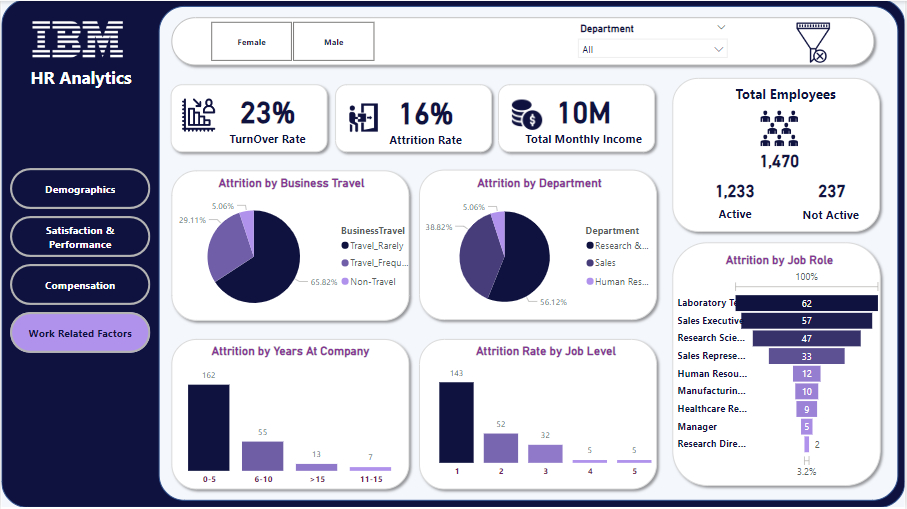

The dashboard page shown, as its layout file describes it:
{"tool":"powerbi","page":{"name":"Work Related Factors","canvas":[1280,720],"ordinal":3},"visuals":[{"type":"textbox","box":[36.9,86.5,165.8,42.5],"z":0},{"type":"card","fields":{"Values":["Dax Measures.# Attrited employees"]},"box":[1134.1,247.4,87.2,42.9],"z":0,"group":"g1"},{"type":"image","box":[1109.1,25.6,82,66.6],"z":1000},{"type":"card","fields":{"Values":["Dax Measures.# Current employees"]},"box":[1002.5,240.2,75.8,57.2],"z":1000,"group":"g1"},{"type":"group","id":"g1","title":"Group 1","box":[1002.5,113.5,277.5,212.5],"z":2000},{"type":"card","fields":{"Values":["Dax Measures.Total Employees"]},"box":[1059.7,200.2,88.7,52.9],"z":2000,"group":"g1"},{"type":"textbox","box":[1036,113.5,210.2,58.6],"z":3000,"group":"g1"},{"type":"pageNavigator","box":[12.8,226.8,199.8,284.9],"z":3000},{"type":"card","fields":{"Values":["Dax Measures.TurnOver Rate"]},"box":[296.1,120.1,163,87.2],"z":4000},{"type":"image","box":[1062.6,148.7,82.9,62.9],"z":4000,"group":"g1"},{"type":"card","fields":{"Values":["Dax Measures.Attrtion Rate"]},"box":[512.1,121.6,180.2,87.2],"z":5000},{"type":"textbox","box":[1012.5,284.6,75.8,40],"z":5000,"group":"g1"},{"type":"card","fields":{"Values":["Dax Measures.Total Monthly Income"]},"box":[735.3,120.1,180.2,87.2],"z":6000},{"type":"textbox","box":[1131.2,286,148.7,40],"z":6000,"group":"g1"},{"type":"image","box":[454.9,130.1,117.3,70.1],"z":7000},{"type":"image","box":[228.9,133,100.1,57.2],"z":8000},{"type":"image","box":[709.5,134.4,70.1,52.9],"z":9000},{"type":"funnel","title":"Attrition by Job Role","fields":{"Category":["DIM_JobRole.JobRole"],"Y":["Dax Measures.# Attrited employees"]},"box":[953.9,357.2,299.1,323.1],"z":10000},{"type":"columnChart","title":"Attrition Rate by Job Level","fields":{"Category":["Fact_Employees.JobLevel"],"Y":["Dax Measures.# Attrited employees"]},"box":[591,486.1,362.8,198.4],"z":11000},{"type":"pieChart","title":"Attrition by Department","fields":{"Category":["DIM_Department.Department"],"Y":["Dax Measures.# Attrited employees"]},"box":[593.9,248,338.7,209.8],"z":12000},{"type":"pieChart","title":"Attrition by Business Travel","fields":{"Category":["DIM_BusinessTravel.BusinessTravel"],"Y":["Dax Measures.# Attrited employees"]},"box":[229.6,248,364.3,209.8],"z":13000},{"type":"clusteredColumnChart","title":"Attrition by Years At Company","fields":{"Category":["Fact_Employees.YearsAtCompanyGroup"],"Y":["Dax Measures.# Attrited employees"]},"box":[229.6,486.1,361.4,209.8],"z":14000},{"type":"slicer","fields":{"Values":["DIM_Gender.Gender"]},"box":[272.1,22.7,280.6,69.4],"z":15000},{"type":"slicer","fields":{"Values":["DIM_Department.Department"]},"box":[807.9,25.5,232.4,60.9],"z":16000}]}

Visuals, with their boxes in screenshot pixels (x1, y1, x2, y2), scaled from the page's 1280x720 canvas onto the 907x509 screenshot:
textbox: 26/61/144/91
card - Dax Measures.# Attrited employees: 804/175/865/205
image: 786/18/844/65
card - Dax Measures.# Current employees: 710/170/764/210
"Group 1" group: 710/80/906/230
card - Dax Measures.Total Employees: 751/142/814/179
textbox: 734/80/883/122
pageNavigator: 9/160/151/362
card - Dax Measures.TurnOver Rate: 210/85/325/147
image: 753/105/812/150
card - Dax Measures.Attrtion Rate: 363/86/491/148
textbox: 717/201/771/229
card - Dax Measures.Total Monthly Income: 521/85/649/147
textbox: 802/202/906/230
image: 322/92/405/142
image: 162/94/233/134
image: 503/95/552/132
"Attrition by Job Role" funnel: 676/253/888/481
"Attrition Rate by Job Level" columnChart: 419/344/676/484
"Attrition by Department" pieChart: 421/175/661/324
"Attrition by Business Travel" pieChart: 163/175/421/324
"Attrition by Years At Company" clusteredColumnChart: 163/344/419/492
slicer - DIM_Gender.Gender: 193/16/392/65
slicer - DIM_Department.Department: 572/18/737/61
